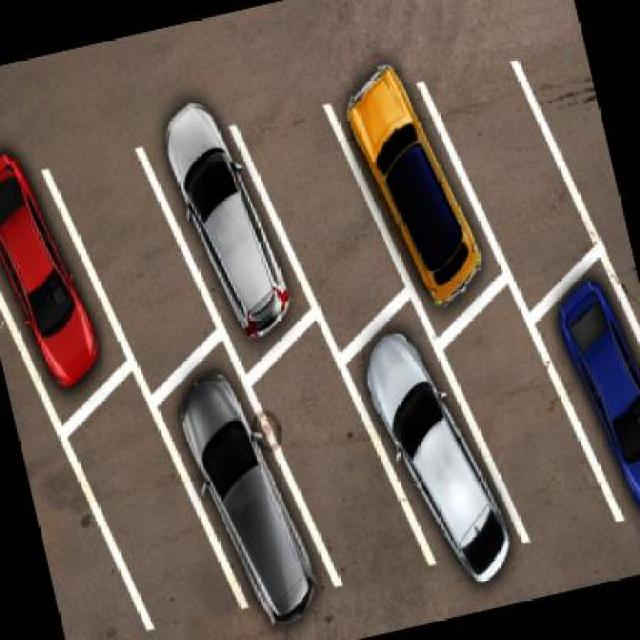Car: (360, 323, 526, 601), (169, 352, 326, 640), (335, 37, 490, 308), (158, 89, 296, 347), (1, 140, 107, 407), (545, 273, 640, 519)
Empty: (69, 393, 215, 638), (67, 134, 200, 363), (266, 349, 398, 578), (460, 318, 594, 526), (453, 61, 572, 289), (266, 109, 389, 326)
